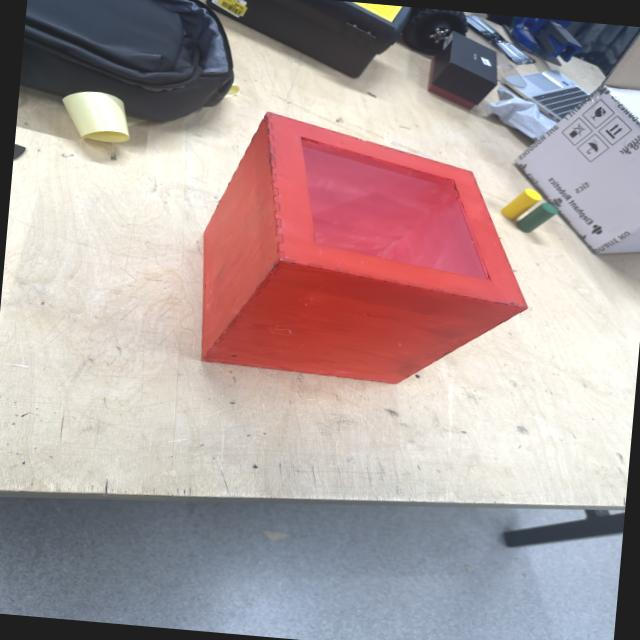red_bin: (189, 105, 544, 395)
